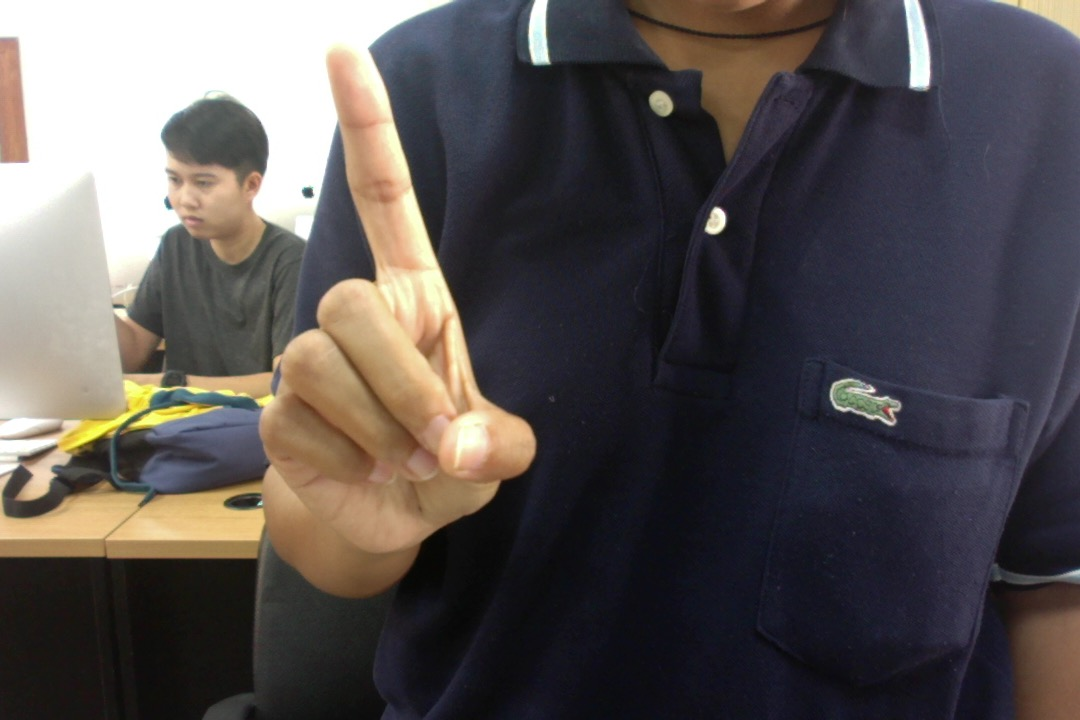dor: (242, 25, 543, 561)
